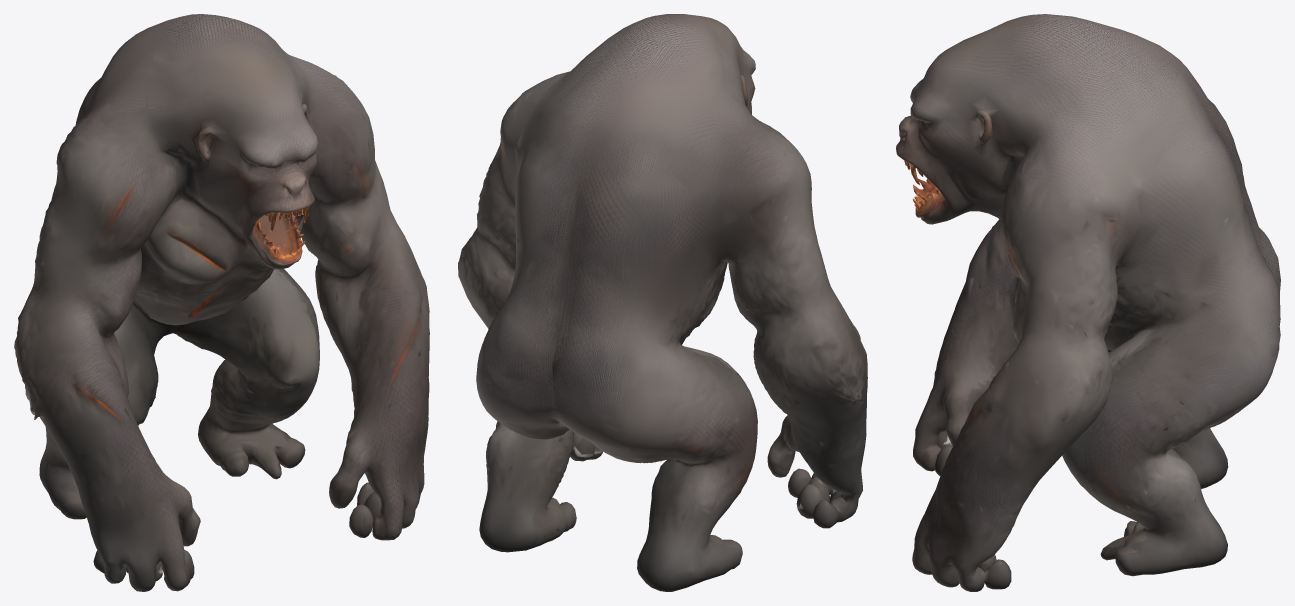
File: gorilla_rigged.fbx
3 renders of one model, left to right at view 1: azimuth 30°, elevation 25°; view 2: azimuth 150°, elevation 25°; view 3: azimuth 270°, elevation 25°, orthographic. The views are drawn at different scales.
Parts seen in each view (by area): view 1: model; view 2: model; view 3: model.
Part boxes in pixels (box(x1,y1,x2,y2)): model: box(14, 14, 429, 591); model: box(458, 14, 867, 591); model: box(896, 14, 1280, 591).
Size of the model in its own units: 1708 by 2049 by 1421.
Materials: 1 (1 with a texture image).
